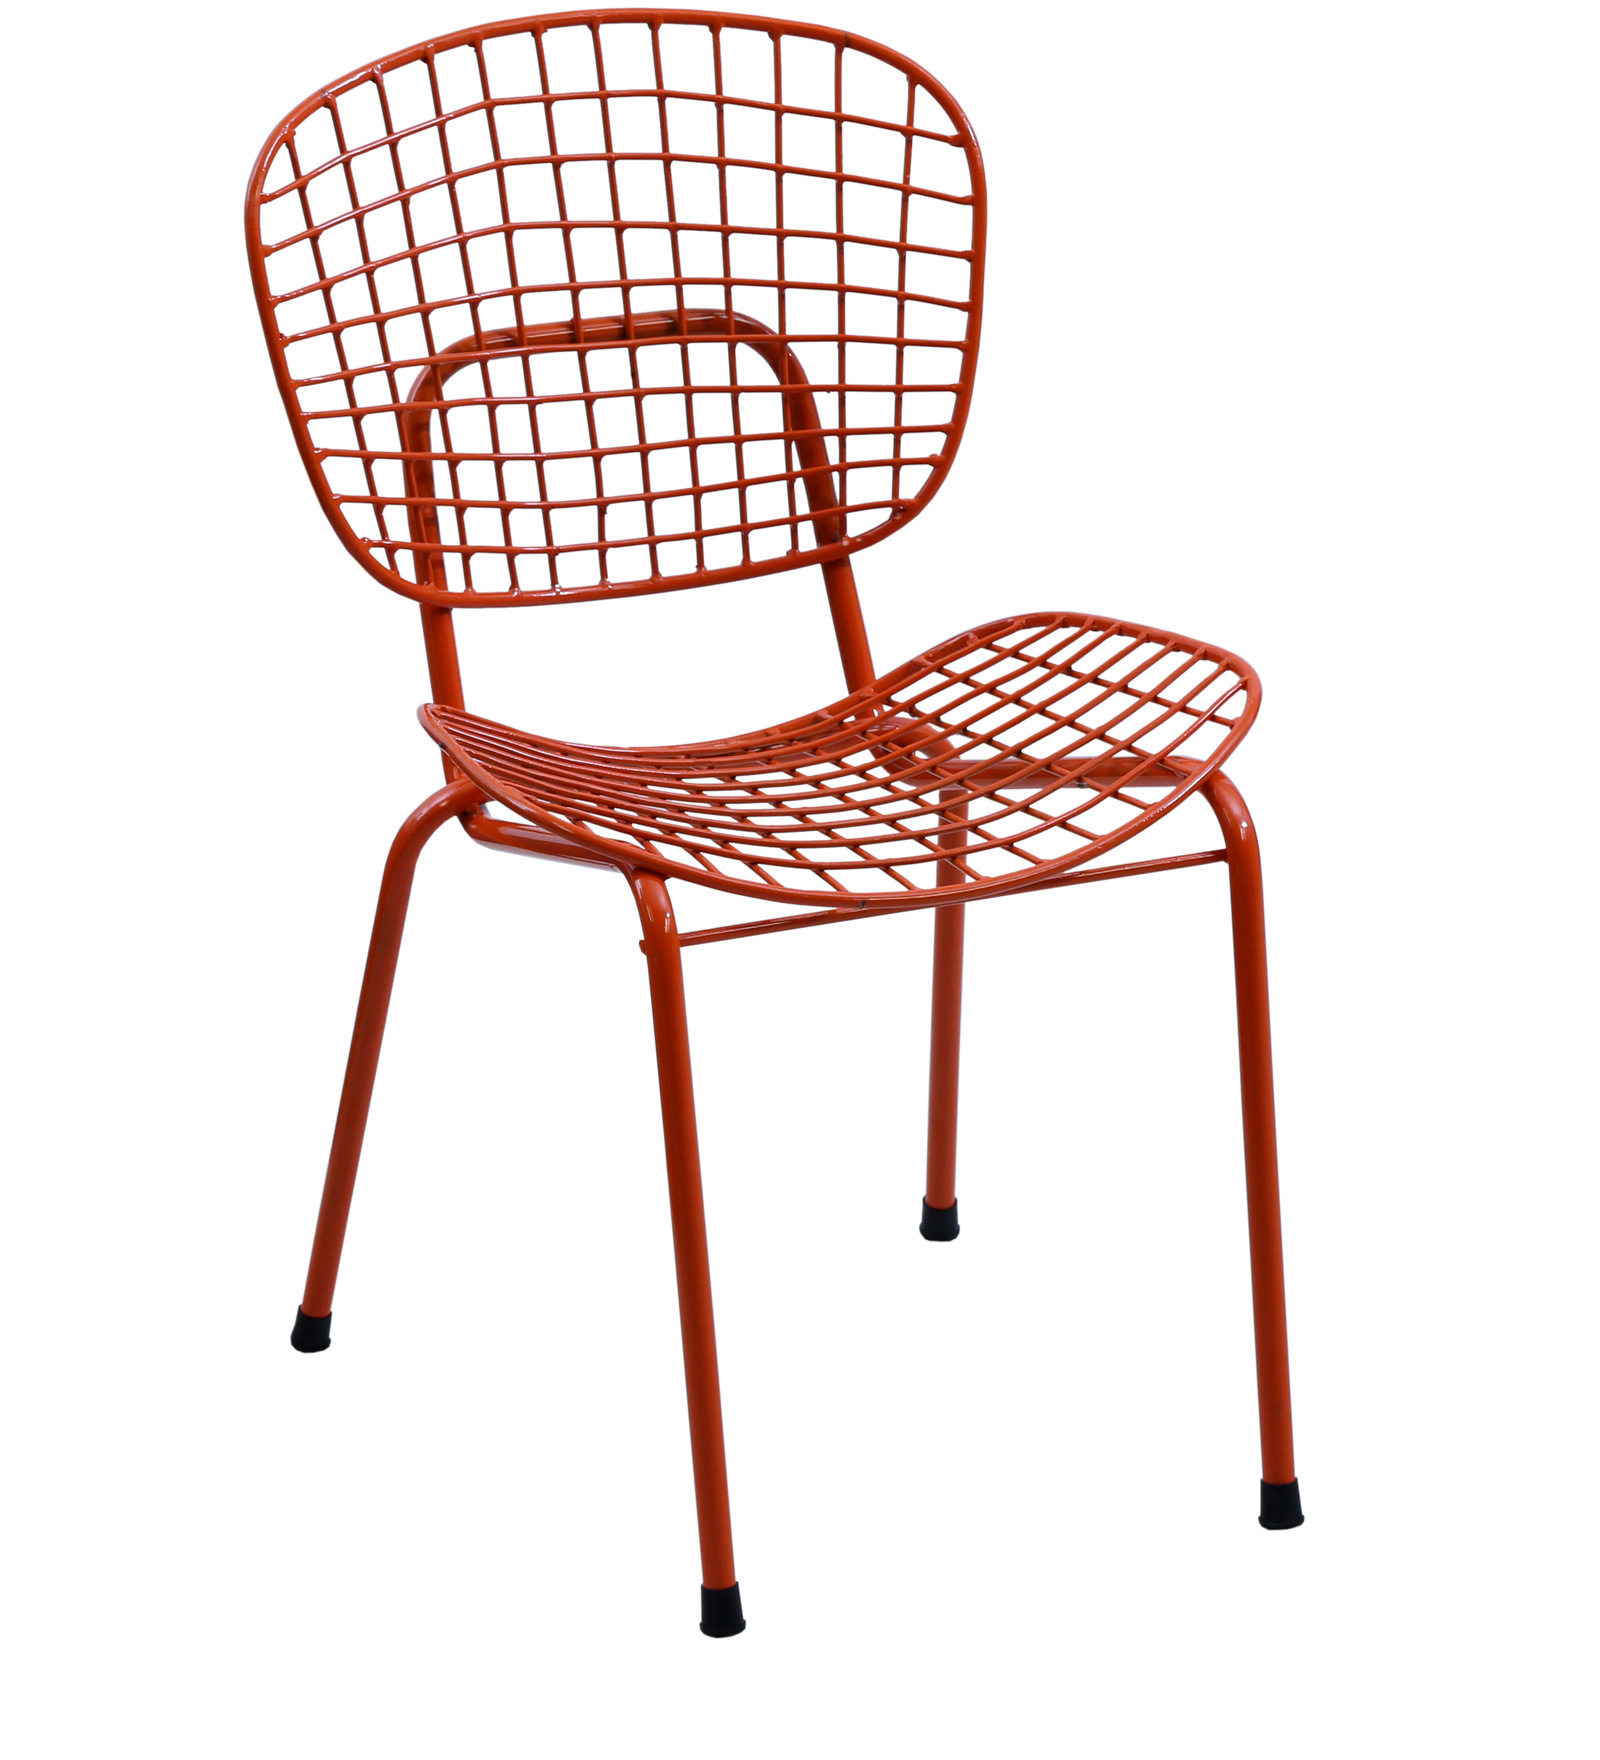Annette Metal Chair in Orange Color by Bohemiana: (181, 2, 1427, 1628)
